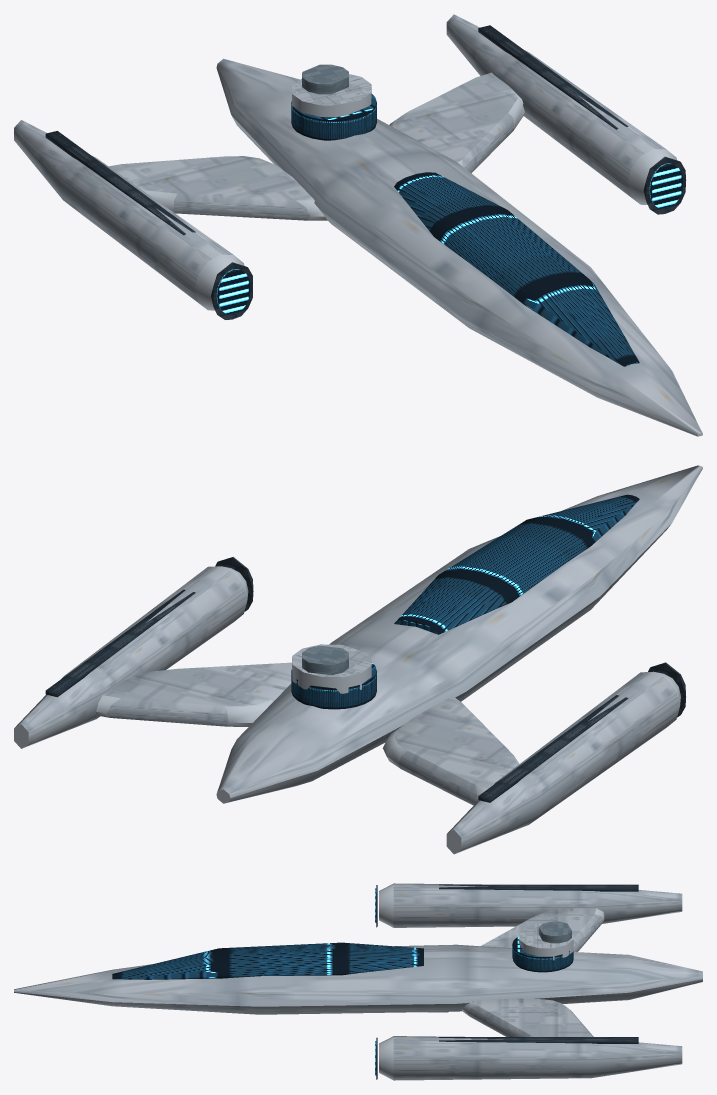
The model's file is alliance_courier_recreated_dock_probe_lod1.glb.
The picture shows the model from 3 angles, top to bottom: view 1: azimuth 30°, elevation 25°; view 2: azimuth 150°, elevation 25°; view 3: azimuth 270°, elevation 25°; orthographic projection. The views are drawn at different scales.
Visible parts, largest first — view 1: alliance_courier_lod_source; view 2: alliance_courier_lod_source; view 3: alliance_courier_lod_source.
Boxes of the visible parts, left/top/right/bottom form: alliance_courier_lod_source: left=14, top=14, right=702, bottom=436; alliance_courier_lod_source: left=14, top=465, right=702, bottom=854; alliance_courier_lod_source: left=14, top=883, right=702, bottom=1080.
Size of the model in its own units: 1.11 by 0.2295 by 1.89.
Materials: 1 (1 with a texture image).
